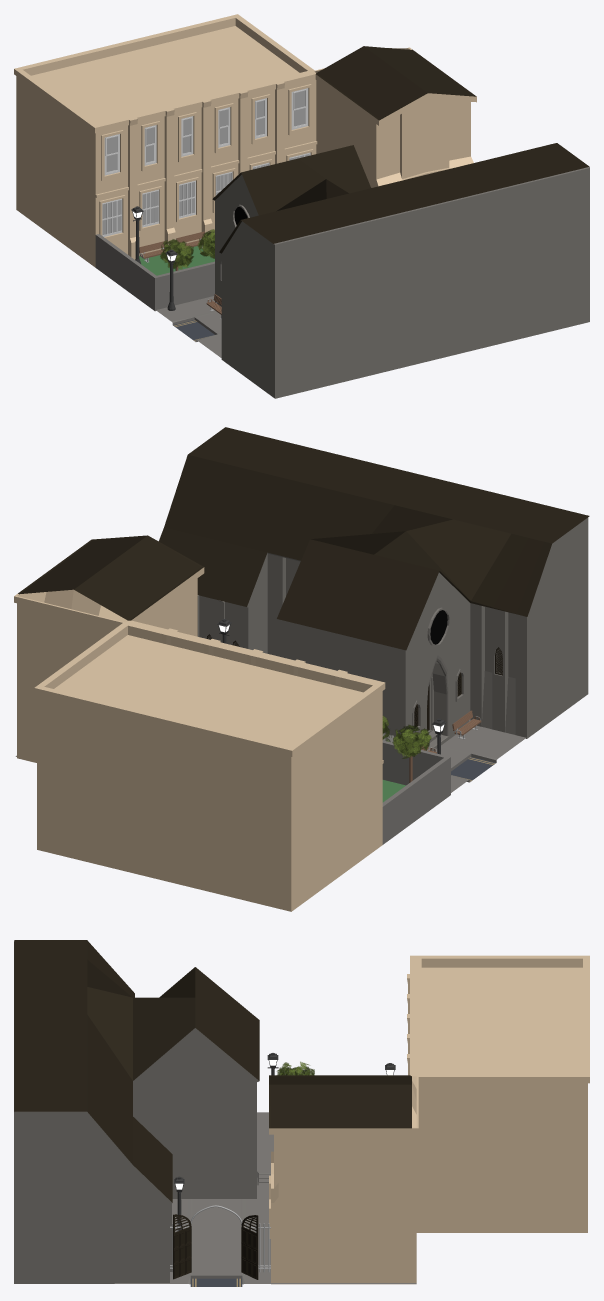
File: narrow.glb
3 views of the same model, one above another, from view 1: azimuth 30°, elevation 25°; view 2: azimuth 150°, elevation 25°; view 3: azimuth 270°, elevation 25° (orthographic). The views are drawn at different scales.
Visible parts, largest first — view 1: Cube.014, Cube.043, Cube.042, NarrowStreet, Cube.091, Cube.095, Cylinder.007, Cube.085, Cube.096, Cube.087, Cube.086, Cube.092 (+1 smaller); view 2: Cube.043, Cube.014, Cube.042, NarrowStreet, Cylinder.007; view 3: Cube.043, Cube.014, NarrowStreet, BézierCurve.
Part boxes in pixels (x1,y1,x2,y2): Cube.014: (212,143,589,398); Cube.043: (14,14,476,267); Cube.042: (95,234,214,311); NarrowStreet: (139,246,221,357); Cube.091: (102,198,122,236); Cube.095: (291,88,308,129); Cylinder.007: (160,239,193,269); Cube.085: (142,189,159,227); Cube.096: (104,134,119,175); Cube.087: (179,180,195,218); Cube.086: (144,125,156,165); Cube.092: (181,116,193,156); Cube.043: (14,535,385,911); Cube.014: (158,427,589,751); Cube.042: (382,740,450,844); NarrowStreet: (15,726,526,802); Cylinder.007: (392,724,431,758); Cube.043: (269,955,589,1284); Cube.014: (14,940,259,1283); NarrowStreet: (114,1112,416,1286); BézierCurve: (170,1205,270,1279).
Size of the model in its own units: 20.15 by 9.67 by 28.39.
Materials: 18 (4 with a texture image).
